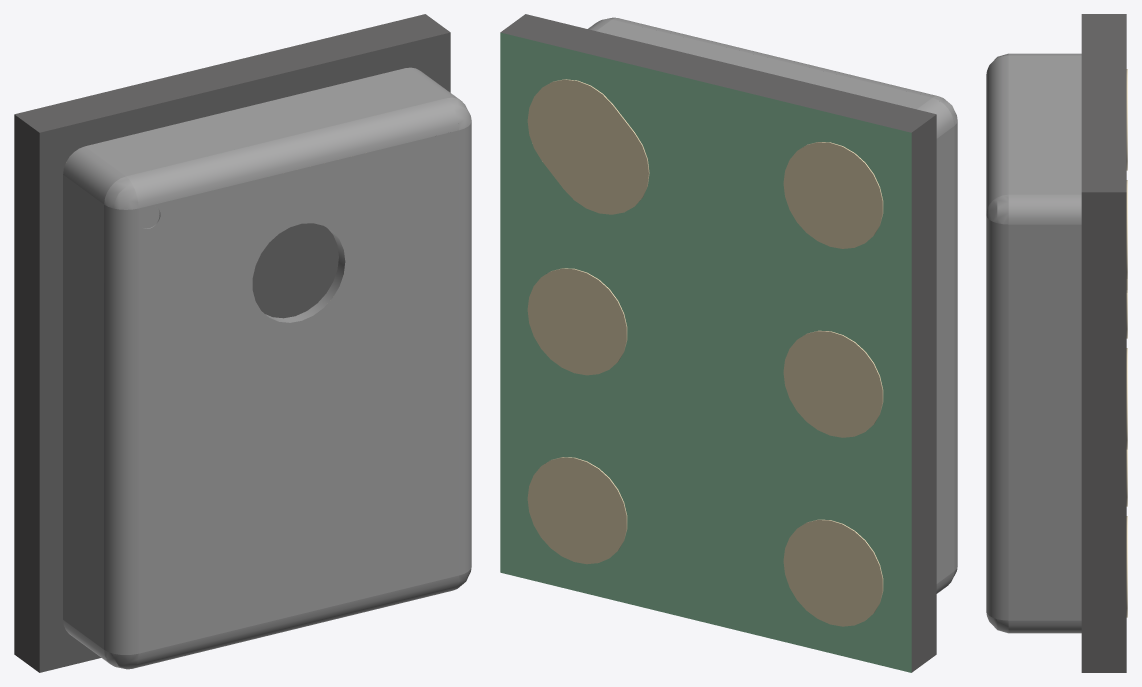
Rendered from ST_HLGA-6_3.76x4.72mm_P1.65mm.glb.
3 views of the same model, side by side, from view 1: azimuth 30°, elevation 25°; view 2: azimuth 150°, elevation 25°; view 3: azimuth 270°, elevation 25° (orthographic). The views are drawn at different scales.
Parts seen in each view (by area): view 1: Shape_IndexedFaceSet.007, Shape_IndexedFaceSet.003, Shape_IndexedFaceSet, Shape_IndexedFaceSet.002, Shape_IndexedFaceSet.014, Shape_IndexedFaceSet.009, Shape_IndexedFaceSet.018, Shape_IndexedFaceSet.016, Shape_IndexedFaceSet.026, Shape_IndexedFaceSet.019, Shape_IndexedFaceSet.017, Shape_IndexedFaceSet.004 (+2 smaller); view 2: Shape_IndexedFaceSet.024, Shape_IndexedFaceSet.014, Shape_IndexedFaceSet.039, Shape_IndexedFaceSet.016, Shape_IndexedFaceSet, Shape_IndexedFaceSet.037, Shape_IndexedFaceSet.036, Shape_IndexedFaceSet.040, Shape_IndexedFaceSet.038, Shape_IndexedFaceSet.041, Shape_IndexedFaceSet.009, Shape_IndexedFaceSet.002 (+2 smaller); view 3: Shape_IndexedFaceSet.012, Shape_IndexedFaceSet.015, Shape_IndexedFaceSet.009, Shape_IndexedFaceSet.019, Shape_IndexedFaceSet.016, Shape_IndexedFaceSet.018, Shape_IndexedFaceSet.011, Shape_IndexedFaceSet.010, Shape_IndexedFaceSet.023.
Part boxes in pixels (x1=…): Shape_IndexedFaceSet.007: x1=138, y1=130, x2=458, y2=653; Shape_IndexedFaceSet.003: x1=39, y1=32, x2=450, y2=672; Shape_IndexedFaceSet: x1=63, y1=175, x2=103, y2=649; Shape_IndexedFaceSet.002: x1=104, y1=204, x2=138, y2=654; Shape_IndexedFaceSet.014: x1=14, y1=114, x2=39, y2=672; Shape_IndexedFaceSet.009: x1=85, y1=68, x2=445, y2=176; Shape_IndexedFaceSet.018: x1=126, y1=98, x2=458, y2=208; Shape_IndexedFaceSet.016: x1=15, y1=14, x2=450, y2=132; Shape_IndexedFaceSet.026: x1=252, y1=223, x2=338, y2=318; Shape_IndexedFaceSet.019: x1=459, y1=122, x2=471, y2=575; Shape_IndexedFaceSet.017: x1=133, y1=575, x2=458, y2=668; Shape_IndexedFaceSet.004: x1=63, y1=146, x2=125, y2=203; Shape_IndexedFaceSet.024: x1=500, y1=32, x2=911, y2=672; Shape_IndexedFaceSet.014: x1=911, y1=114, x2=936, y2=672; Shape_IndexedFaceSet.039: x1=527, y1=79, x2=648, y2=214; Shape_IndexedFaceSet.016: x1=500, y1=14, x2=936, y2=132; Shape_IndexedFaceSet: x1=936, y1=126, x2=954, y2=583; Shape_IndexedFaceSet.037: x1=783, y1=331, x2=882, y2=437; Shape_IndexedFaceSet.036: x1=783, y1=520, x2=882, y2=626; Shape_IndexedFaceSet.040: x1=527, y1=268, x2=626, y2=375; Shape_IndexedFaceSet.038: x1=783, y1=142, x2=882, y2=248; Shape_IndexedFaceSet.041: x1=527, y1=457, x2=626, y2=564; Shape_IndexedFaceSet.009: x1=596, y1=19, x2=931, y2=109; Shape_IndexedFaceSet.002: x1=954, y1=121, x2=957, y2=570; Shape_IndexedFaceSet.012: x1=1008, y1=224, x2=1081, y2=620; Shape_IndexedFaceSet.015: x1=1081, y1=192, x2=1126, y2=672; Shape_IndexedFaceSet.009: x1=1008, y1=55, x2=1081, y2=194; Shape_IndexedFaceSet.019: x1=986, y1=216, x2=1008, y2=620; Shape_IndexedFaceSet.016: x1=1081, y1=14, x2=1126, y2=192; Shape_IndexedFaceSet.018: x1=986, y1=55, x2=1008, y2=212; Shape_IndexedFaceSet.011: x1=1008, y1=194, x2=1081, y2=224; Shape_IndexedFaceSet.010: x1=1008, y1=620, x2=1081, y2=633; Shape_IndexedFaceSet.023: x1=986, y1=194, x2=1008, y2=224.
Size of the model in its own units: 1.48 by 1.86 by 0.4961.
